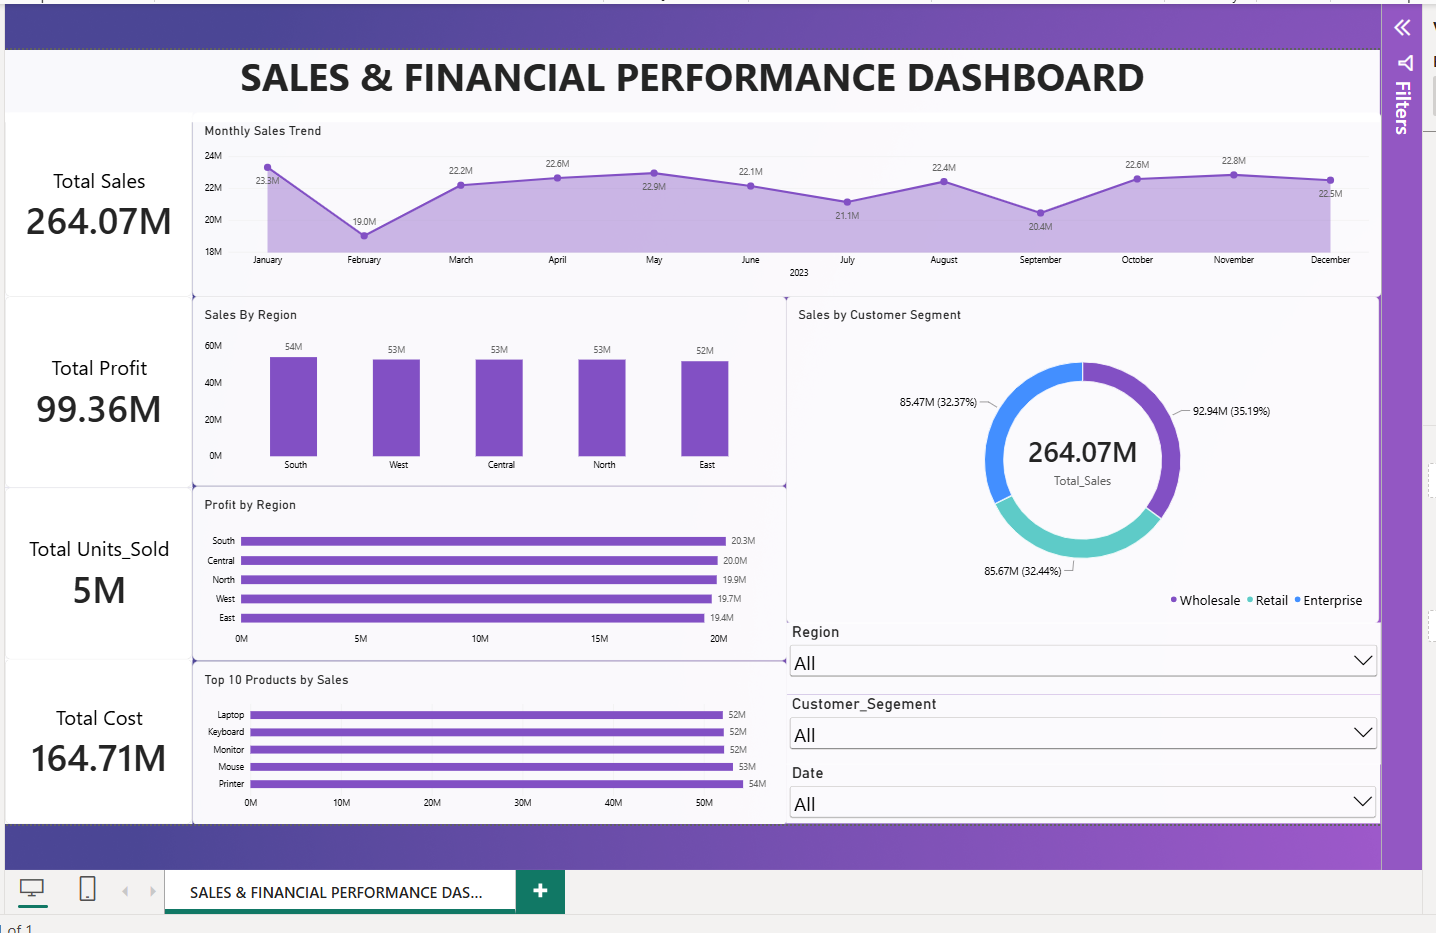

This screenshot's page, from the dashboard's own definition file:
{"tool":"powerbi","page":{"name":"SALES & FINANCIAL PERFORMANCE DASHBOARD","canvas":[1920,1080],"ordinal":0},"visuals":[{"type":"cardVisual","fields":{"Data":["Sum(Financial_sales_dataset 1.Total_Sales)"]},"box":[0,86.4,261.4,257.3],"z":0},{"type":"cardVisual","fields":{"Data":["Sum(Financial_sales_dataset 1.Cost_of_Goods_Sold)"]},"box":[0,847.7,261.6,232],"z":1000},{"type":"cardVisual","fields":{"Data":["Sum(Financial_sales_dataset 1.Units_Sold)"]},"box":[0,611.3,261.4,240.8],"z":2000},{"type":"cardVisual","fields":{"Data":["Sum(Financial_sales_dataset 1.Profit)"]},"box":[0,343.7,261.4,267.6],"z":3000},{"type":"lineChart","title":"Monthly Sales Trend","fields":{"Category":["Financial_sales_dataset 1.Date.Variation.Date Hierarchy.Year","Financial_sales_dataset 1.Date.Variation.Date Hierarchy.Month"],"Y":["Sum(Financial_sales_dataset 1.Total_Sales)"]},"box":[261.4,86.4,1659,257.3],"z":4000},{"type":"clusteredColumnChart","title":"Sales By Region","fields":{"Category":["Financial_sales_dataset 1.Region"],"Y":["Sum(Financial_sales_dataset 1.Total_Sales)"]},"box":[261.6,343.6,828.5,265.1],"z":5000},{"type":"clusteredBarChart","title":"Profit by Region","fields":{"Category":["Financial_sales_dataset 1.Region"],"Y":["Sum(Financial_sales_dataset 1.Profit)"]},"box":[261.4,609.3,829.5,242.9],"z":6000},{"type":"donutChart","title":"Sales by Customer Segment","fields":{"Category":["Financial_sales_dataset 1.Customer_Segement"],"Y":["Sum(Financial_sales_dataset 1.Total_Sales)"]},"box":[1074.4,341.9,827.4,456.9],"z":7000},{"type":"clusteredBarChart","title":"Top 10 Products by Sales","fields":{"Category":["Financial_sales_dataset 1.Product_Name"],"Y":["Sum(Financial_sales_dataset 1.Total_Sales)"]},"box":[261.4,852.1,829.5,228.5],"z":8000},{"type":"slicer","fields":{"Values":["Financial_sales_dataset 1.Region"]},"box":[1090.5,798.9,829.5,100.9],"z":9000},{"type":"slicer","fields":{"Values":["Financial_sales_dataset 1.Date"]},"box":[1090.5,996.5,828.5,83.5],"z":10000},{"type":"slicer","fields":{"Values":["Financial_sales_dataset 1.Customer_Segement"]},"box":[1090.9,899.5,829.5,96.7],"z":11000},{"type":"textbox","box":[0,0,1918.4,100.9],"z":12000}]}

Visuals, with their boxes on the page's 1920x1080 design canvas (x1, y1, x2, y2). These are canvas units, not pixel positions in the 1436x933 screenshot, which may show the page scaled, cropped or inside an application window:
cardVisual - Sum(Financial_sales_dataset 1.Total_Sales): locate(0, 86, 261, 344)
cardVisual - Sum(Financial_sales_dataset 1.Cost_of_Goods_Sold): locate(0, 848, 262, 1080)
cardVisual - Sum(Financial_sales_dataset 1.Units_Sold): locate(0, 611, 261, 852)
cardVisual - Sum(Financial_sales_dataset 1.Profit): locate(0, 344, 261, 611)
"Monthly Sales Trend" lineChart: locate(261, 86, 1920, 344)
"Sales By Region" clusteredColumnChart: locate(262, 344, 1090, 609)
"Profit by Region" clusteredBarChart: locate(261, 609, 1091, 852)
"Sales by Customer Segment" donutChart: locate(1074, 342, 1902, 799)
"Top 10 Products by Sales" clusteredBarChart: locate(261, 852, 1091, 1081)
slicer - Financial_sales_dataset 1.Region: locate(1090, 799, 1920, 900)
slicer - Financial_sales_dataset 1.Date: locate(1090, 996, 1919, 1080)
slicer - Financial_sales_dataset 1.Customer_Segement: locate(1091, 900, 1920, 996)
textbox: locate(0, 0, 1918, 101)
